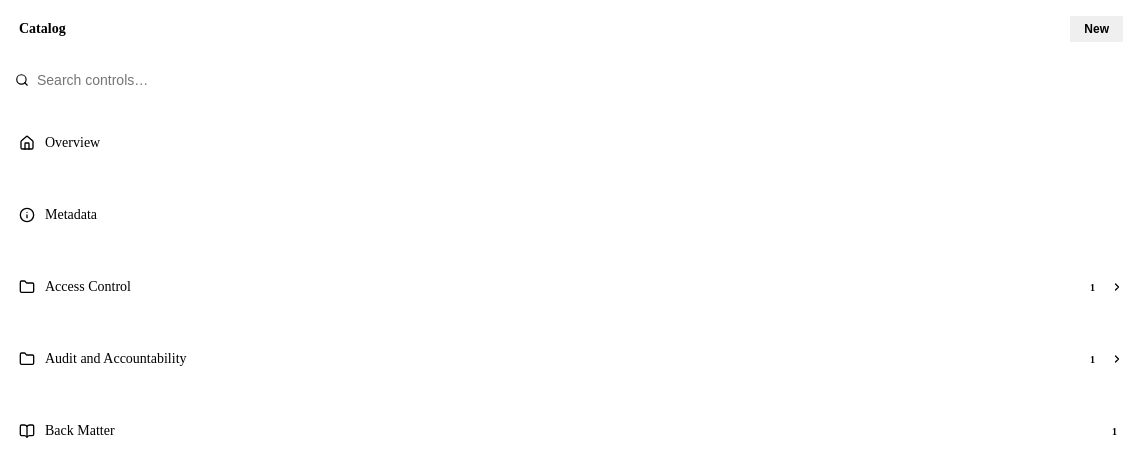
it: CatalogPage Markdown prose (issue #104) › opens the back-matter resource a #fragment link names
This screenshot has width=1140, height=455.
Click the text "Access Control".
click(88, 286)  # box 45,279 -> 131,294
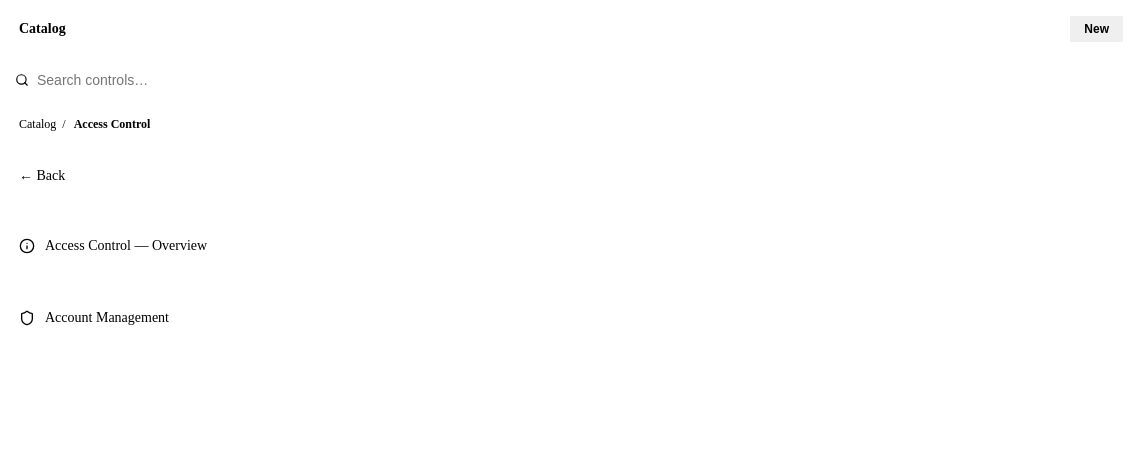
Click the text "Account Management".
click(107, 318)  # box 45,310 -> 169,325
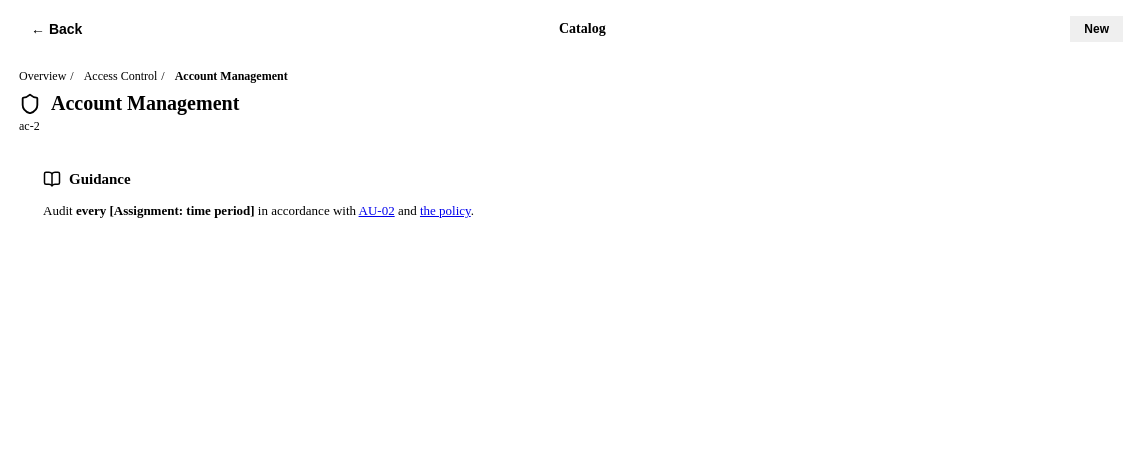
Now the heading "Account Management" is shown, box 51,92 -> 239,115
Click the link "the policy".
click(445, 210)  # box 420,203 -> 471,218
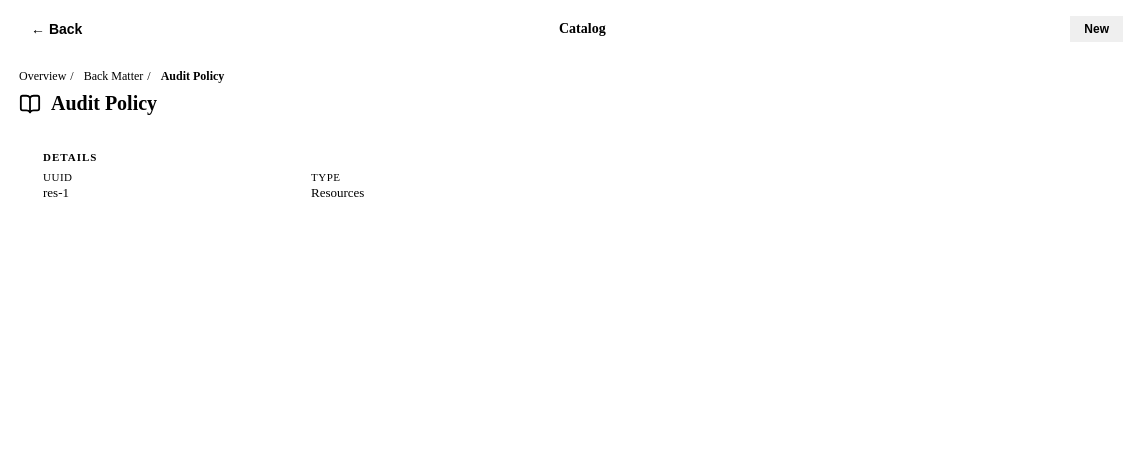
Now the heading "Audit Policy" is shown, box 51,92 -> 157,115
